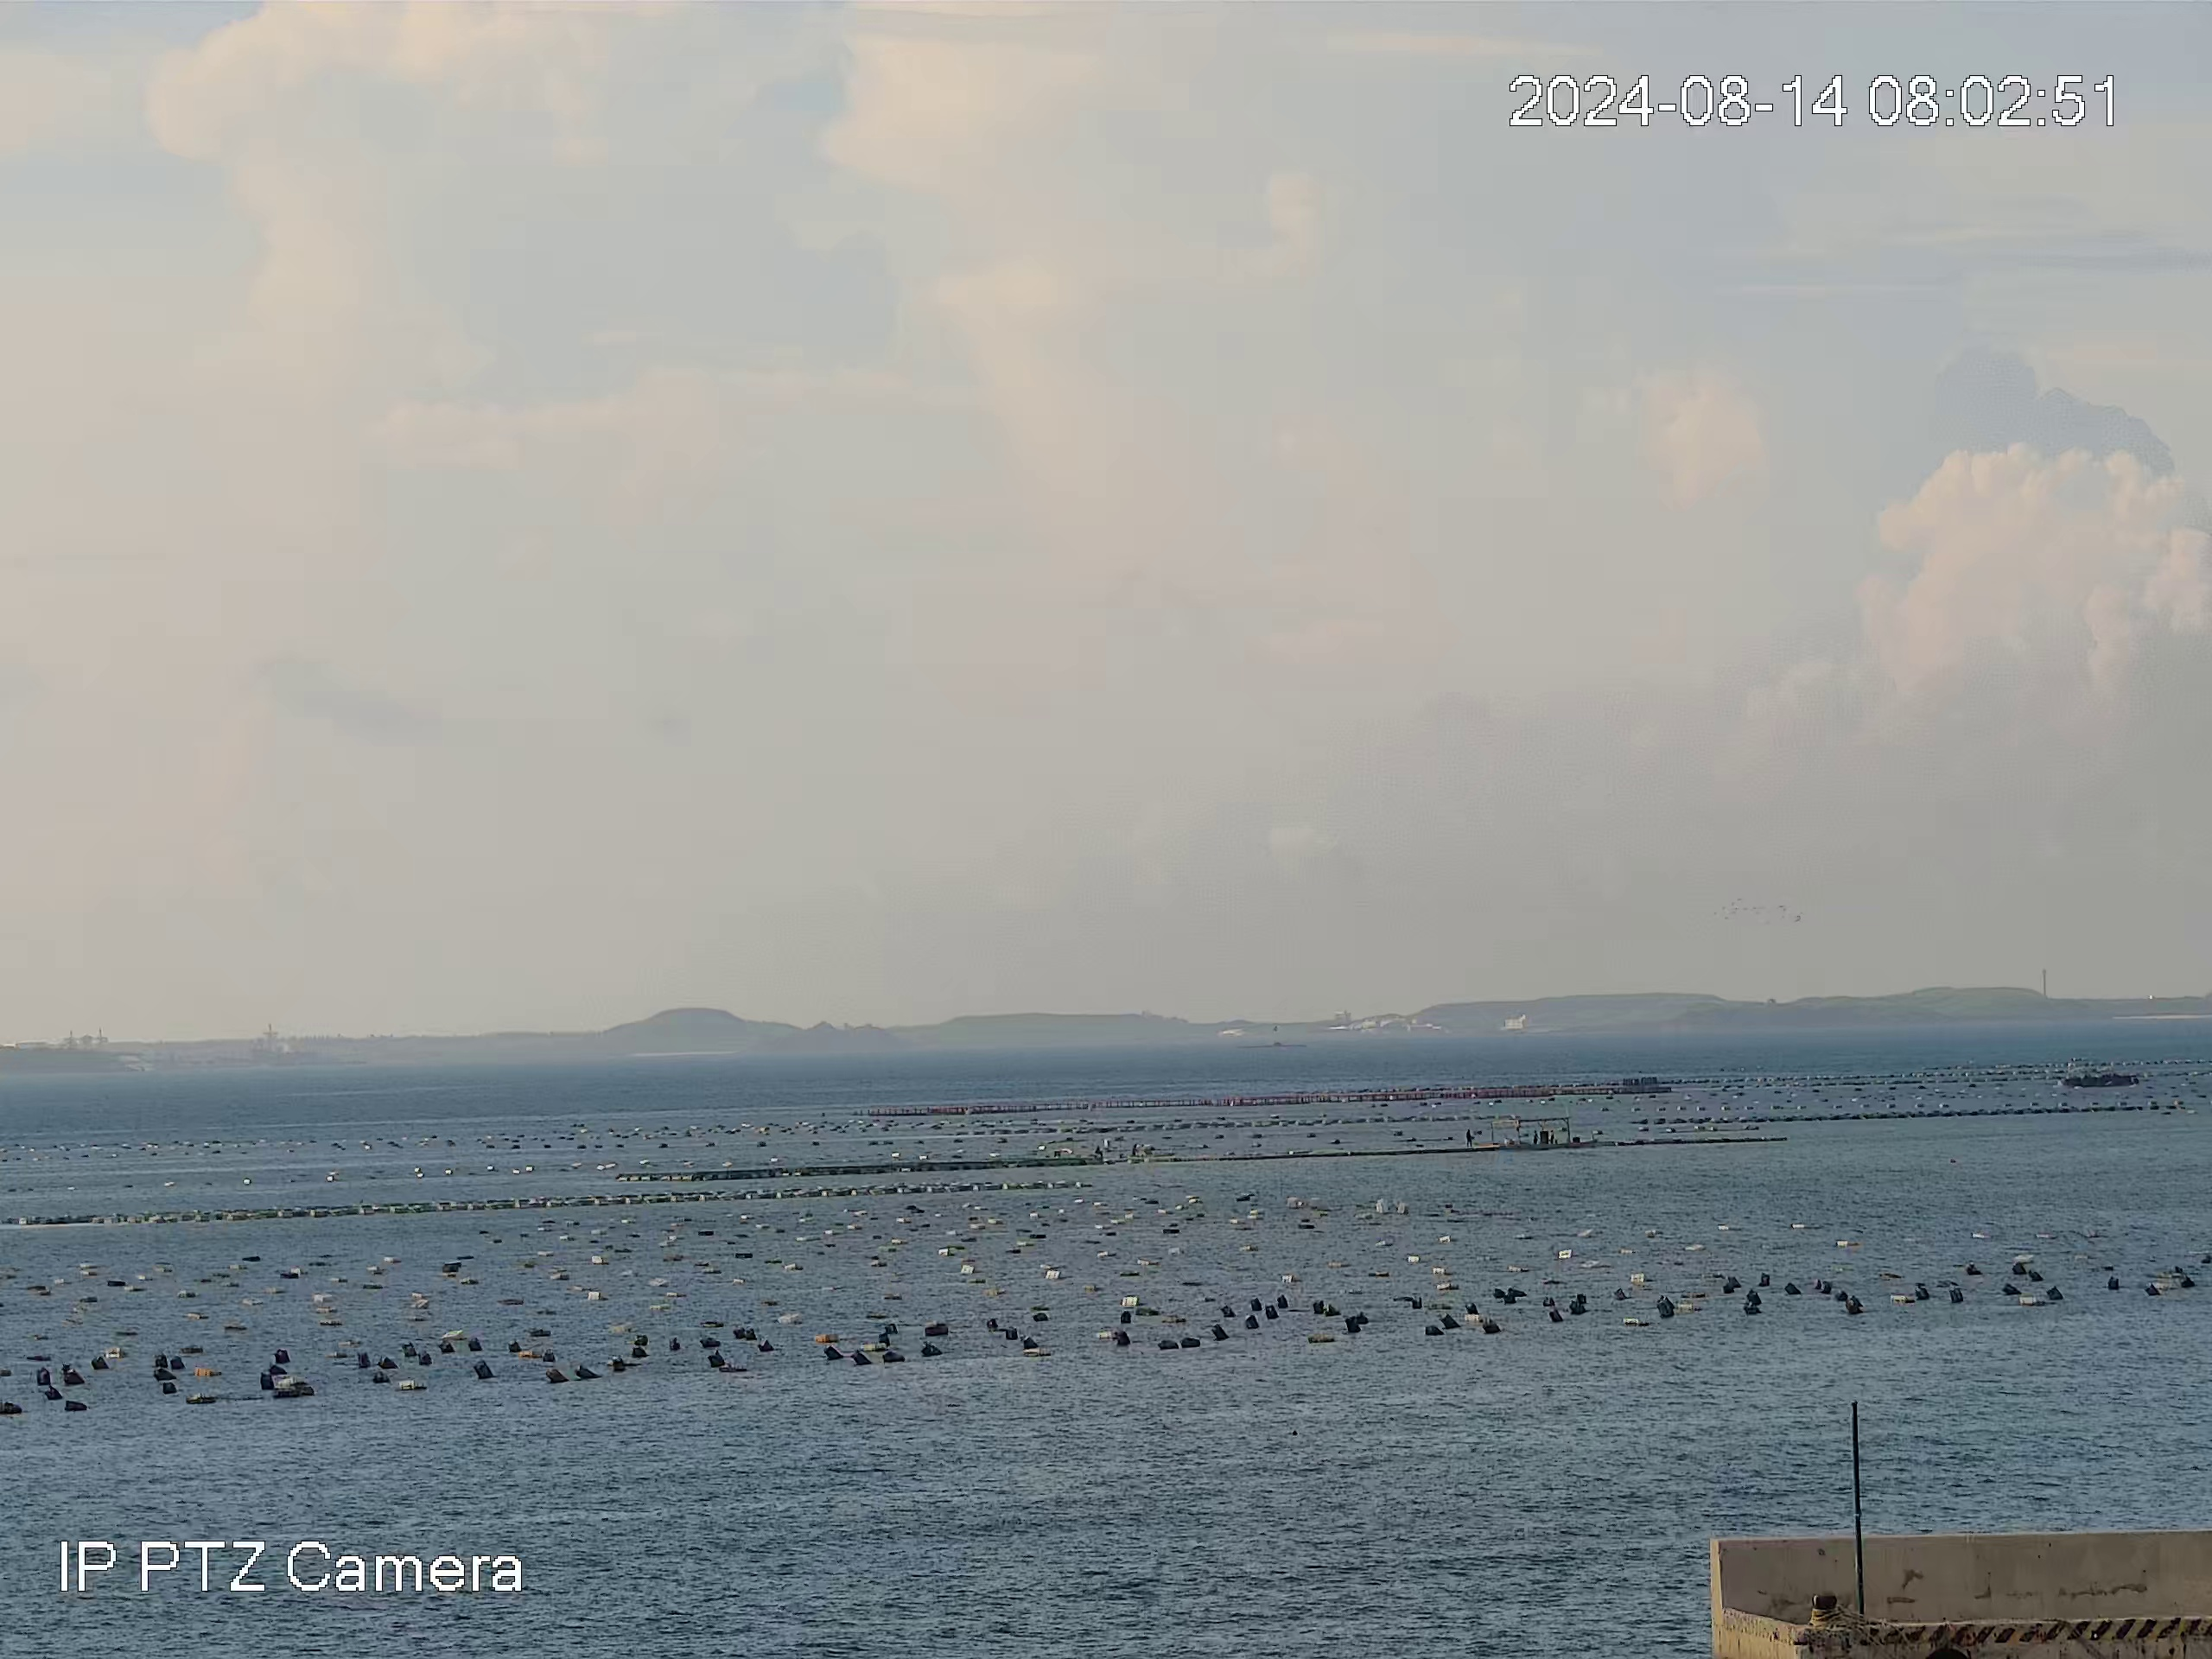boat: (1483, 1116, 1599, 1150), (2056, 1059, 2147, 1091)
